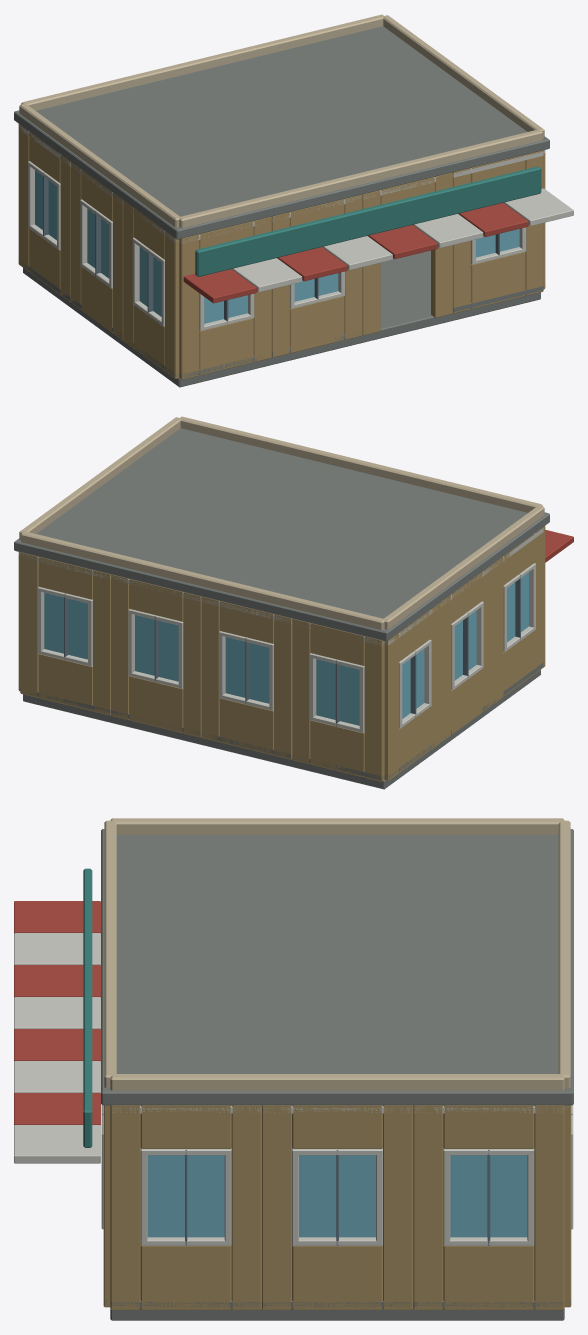
Rendered from architecture-shop.lod0.glb.
3 renders of one model, top to bottom at view 1: azimuth 30°, elevation 25°; view 2: azimuth 150°, elevation 25°; view 3: azimuth 270°, elevation 25°, orthographic. The views are drawn at different scales.
Visible parts, largest first — view 1: architecture-shop__body; view 2: architecture-shop__body; view 3: architecture-shop__body.
Boxes of the visible parts, bbox=[...] form: architecture-shop__body: bbox=[14, 14, 573, 387]; architecture-shop__body: bbox=[14, 416, 573, 789]; architecture-shop__body: bbox=[14, 818, 573, 1320].
Size of the model in its own units: 8.25 by 3.58 by 7.4.
